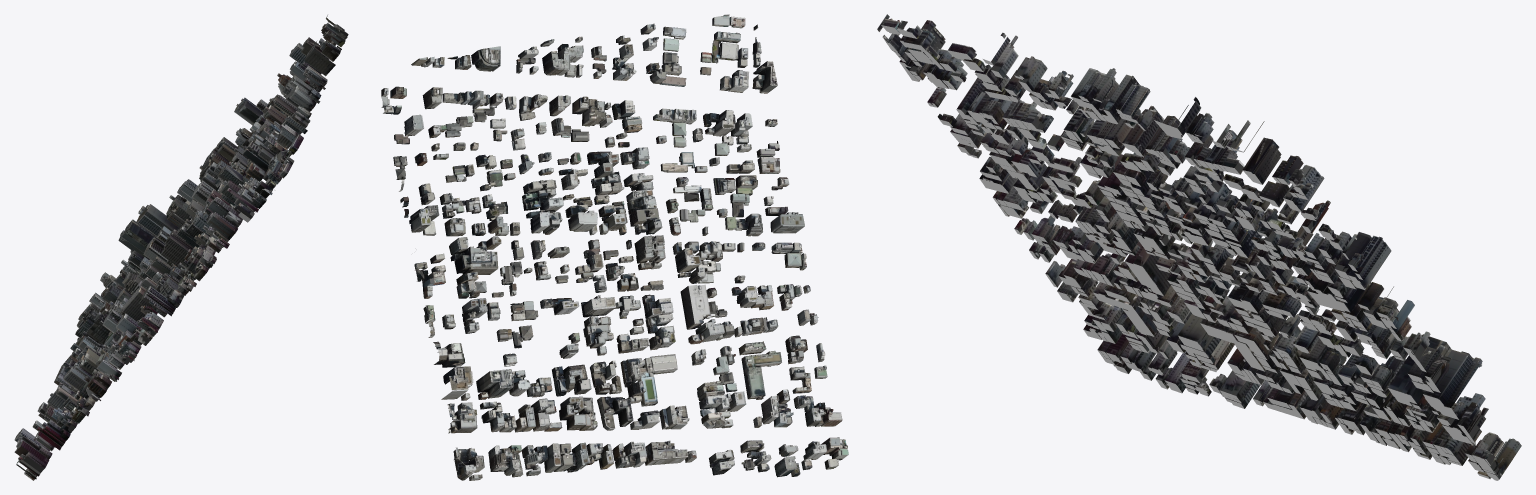
Rendered from 9883_bldg_Building.glb.
The picture shows the model from 3 angles, left to right: view 1: azimuth 30°, elevation 25°; view 2: azimuth 150°, elevation 25°; view 3: azimuth 270°, elevation 25°; orthographic projection. The views are drawn at different scales.
Size of the model in its own units: 581 by 496 by 589.
9 materials, 8 textured.
